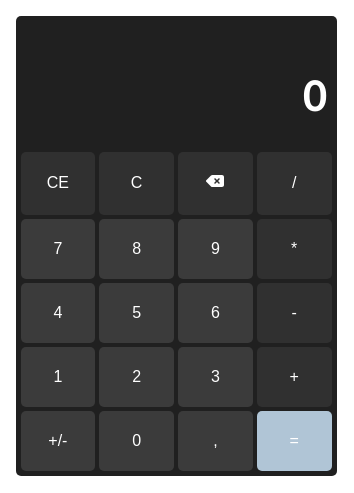
Test: Click Events › should clear all the input
Click the button "1" at (58, 377), box [20,347,95,407]
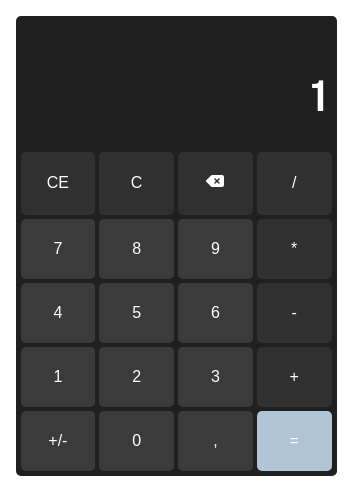
Click the button "1" at (58, 377), box [20,347,95,407]
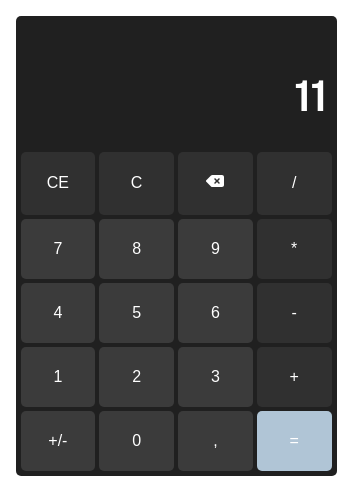
Click the button "1" at (58, 377), box [20,347,95,407]
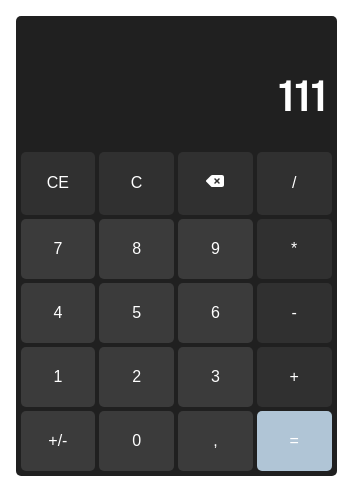
Click the button "CE" at (58, 183), box [20,152,95,214]
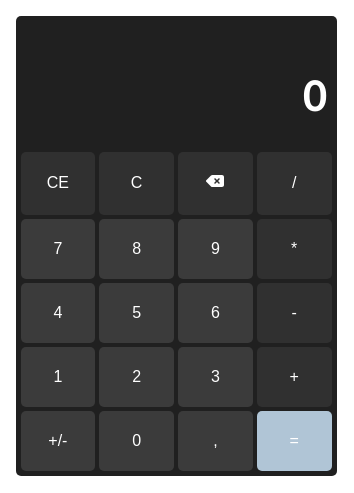
Check: the heading "0" is shown, box [302,73,326,120]
